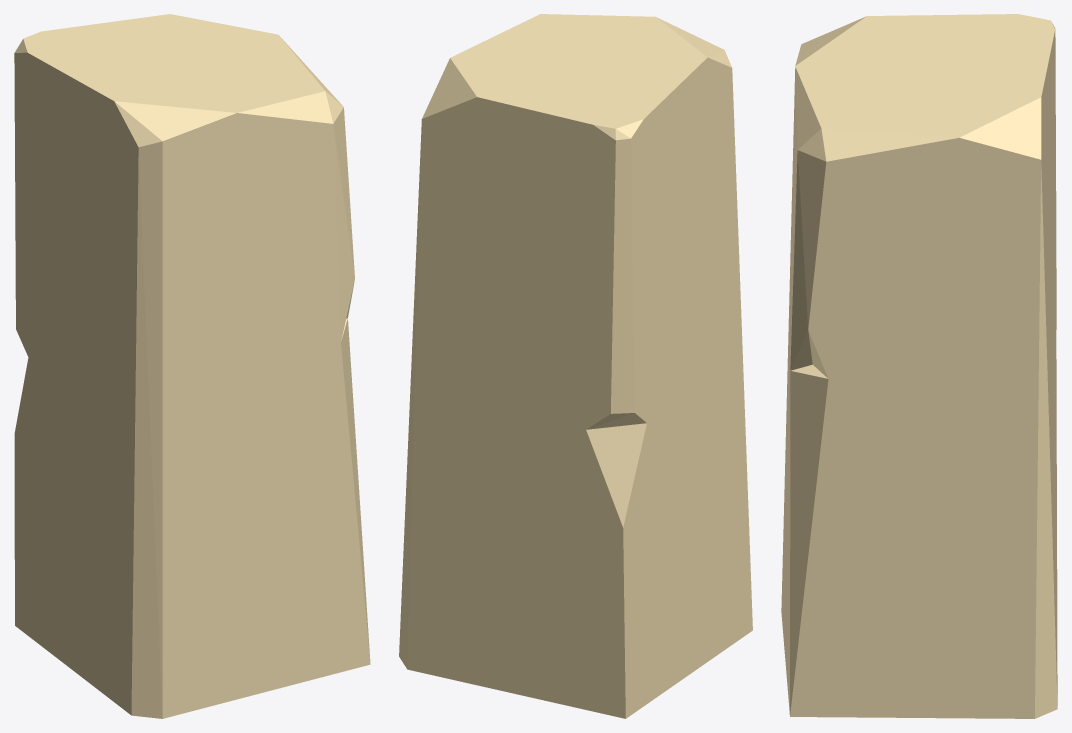
Rendered from Module_Masonry_Post_LOD02.fbx.
The picture shows the model from 3 angles, left to right: view 1: azimuth 30°, elevation 25°; view 2: azimuth 150°, elevation 25°; view 3: azimuth 270°, elevation 25°; orthographic projection.
Parts seen in each view (by area): view 1: Module_Masonry_Post_LOD02_Geometry; view 2: Module_Masonry_Post_LOD02_Geometry; view 3: Module_Masonry_Post_LOD02_Geometry.
Part boxes in pixels (x1,y1,x2,y2): Module_Masonry_Post_LOD02_Geometry: (14,14,370,718); Module_Masonry_Post_LOD02_Geometry: (399,14,752,718); Module_Masonry_Post_LOD02_Geometry: (781,14,1057,718).
Bounding box in the file's own units: 0.7774 × 1.85 × 0.7782.
